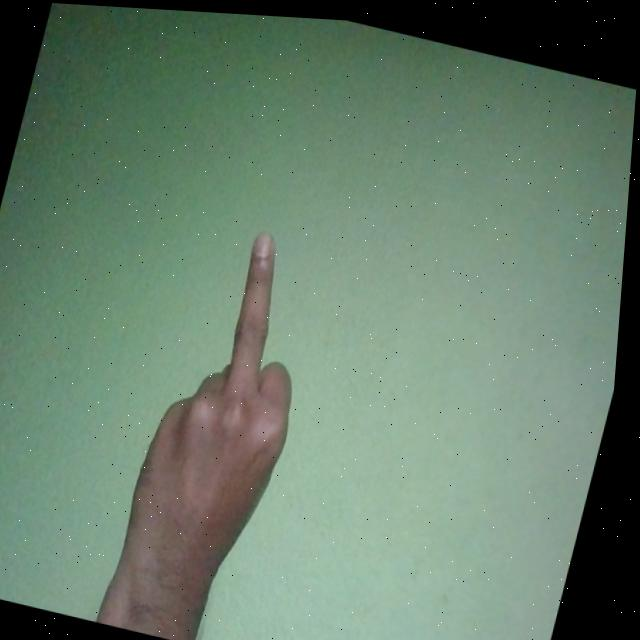Middle Finger: (113, 211, 339, 640)
